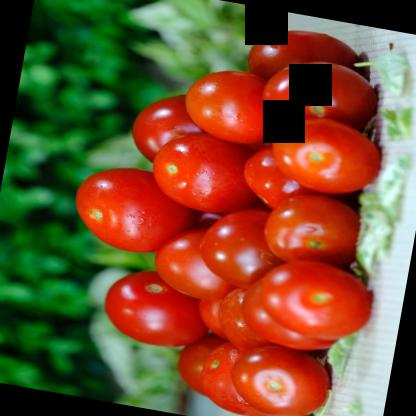tomato: (68, 158, 200, 262), (256, 252, 381, 344), (266, 109, 390, 201), (252, 51, 380, 140), (146, 128, 268, 220), (97, 262, 214, 352), (180, 60, 287, 148), (242, 21, 364, 98), (194, 200, 297, 290), (261, 186, 364, 272), (194, 333, 300, 415), (238, 270, 344, 352), (225, 340, 336, 415), (148, 221, 245, 300), (124, 82, 210, 170)
